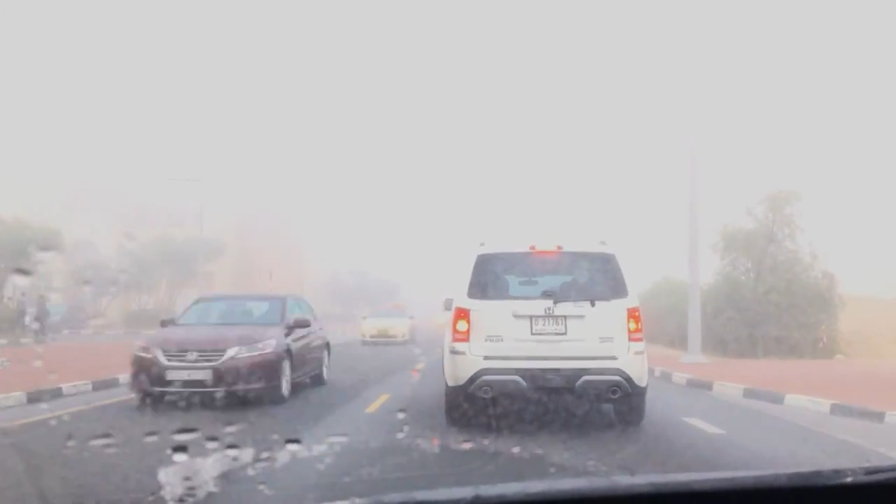car: (436, 240, 651, 430), (122, 291, 333, 411), (358, 303, 416, 346)
